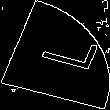L_W: (19, 32, 91, 78)
